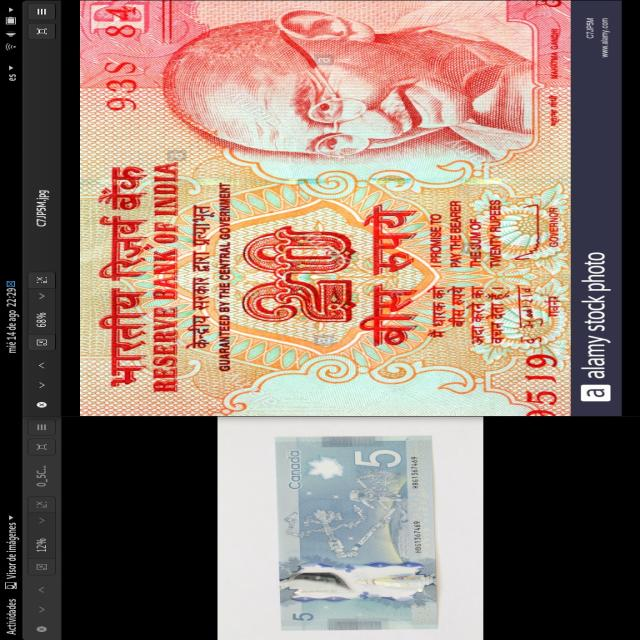20IndianRupees: (83, 0, 575, 419)
